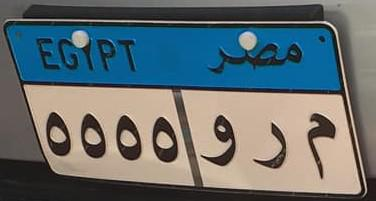5: (149, 95, 187, 175), (74, 106, 111, 173), (41, 94, 74, 169), (114, 107, 139, 161)
ر: (247, 103, 288, 185)
م: (302, 105, 337, 183)
و: (201, 89, 248, 174)
